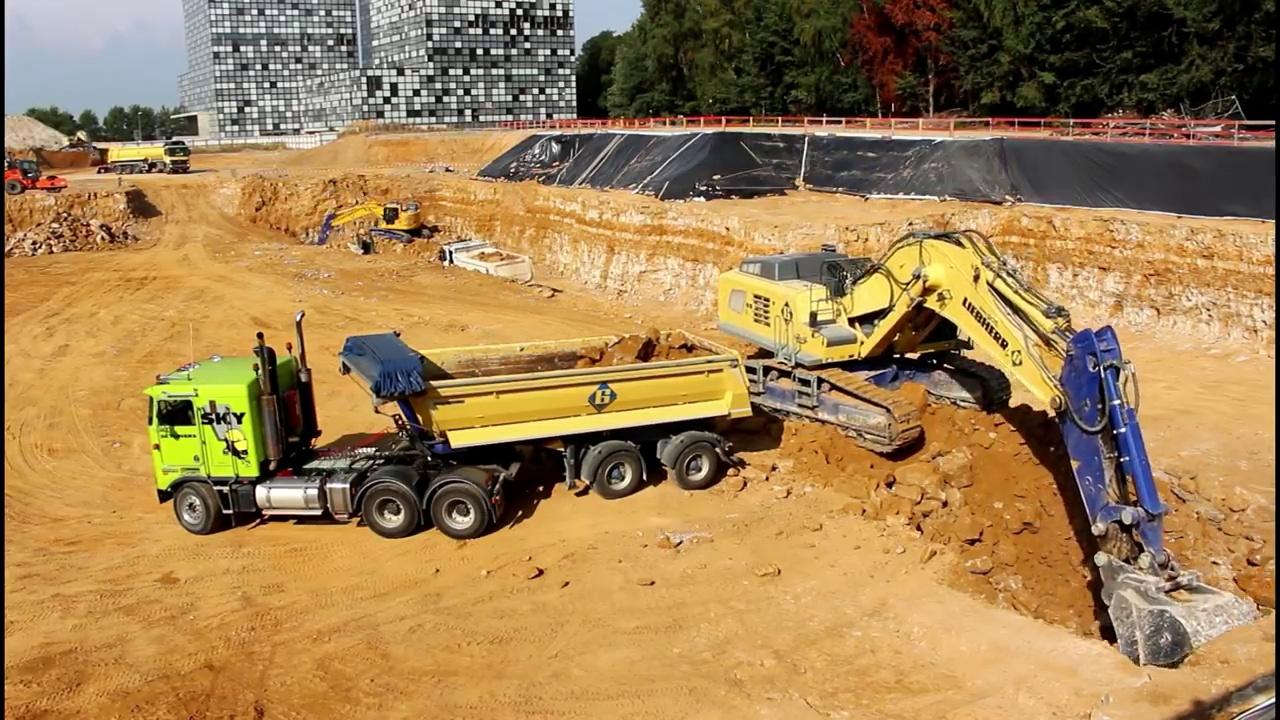compactor: (4, 155, 73, 199)
excavator: (701, 221, 1267, 685), (308, 196, 443, 267), (101, 130, 192, 185), (59, 123, 105, 162)
truck: (142, 306, 759, 550), (439, 234, 543, 306)
